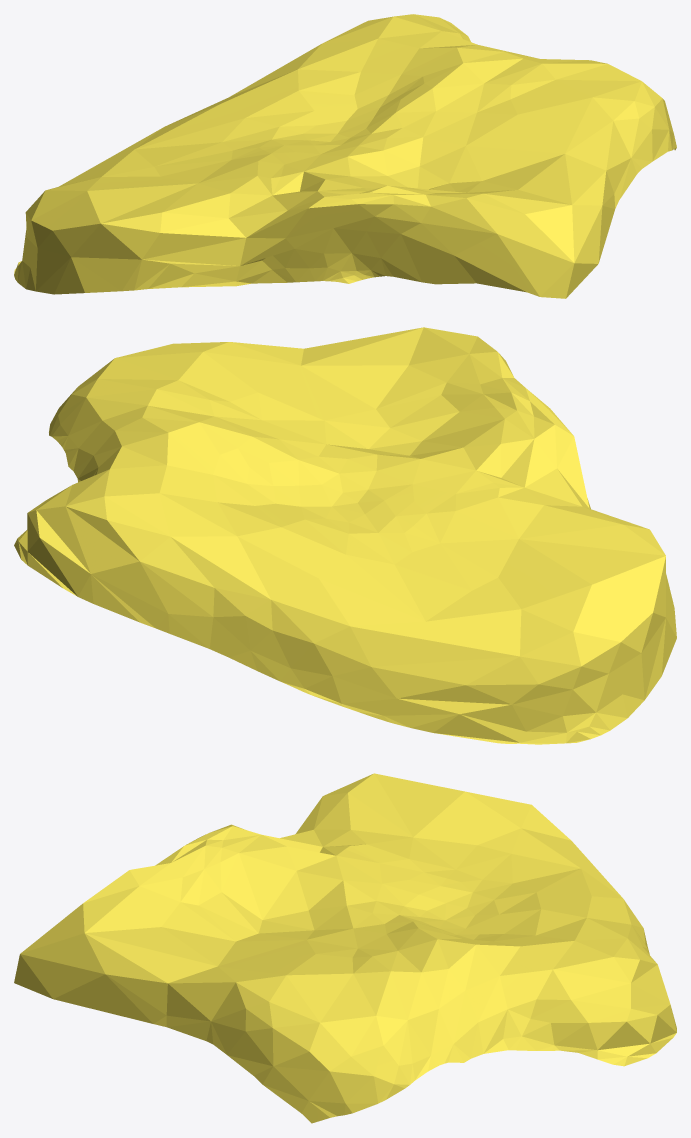
The model's file is ground_024.fbx.
3 renders of one model, top to bottom at view 1: azimuth 30°, elevation 25°; view 2: azimuth 150°, elevation 25°; view 3: azimuth 270°, elevation 25°, orthographic. The views are drawn at different scales.
Parts seen in each view (by area): view 1: ground.024; view 2: ground.024; view 3: ground.024.
Part boxes in pixels (box(x1,y1,x2,y2)): ground.024: box(14, 14, 676, 298); ground.024: box(14, 327, 676, 744); ground.024: box(14, 773, 676, 1123).
Size of the model in its own units: 2704 by 686 by 2374.
Materials: 1 (1 with a texture image).
